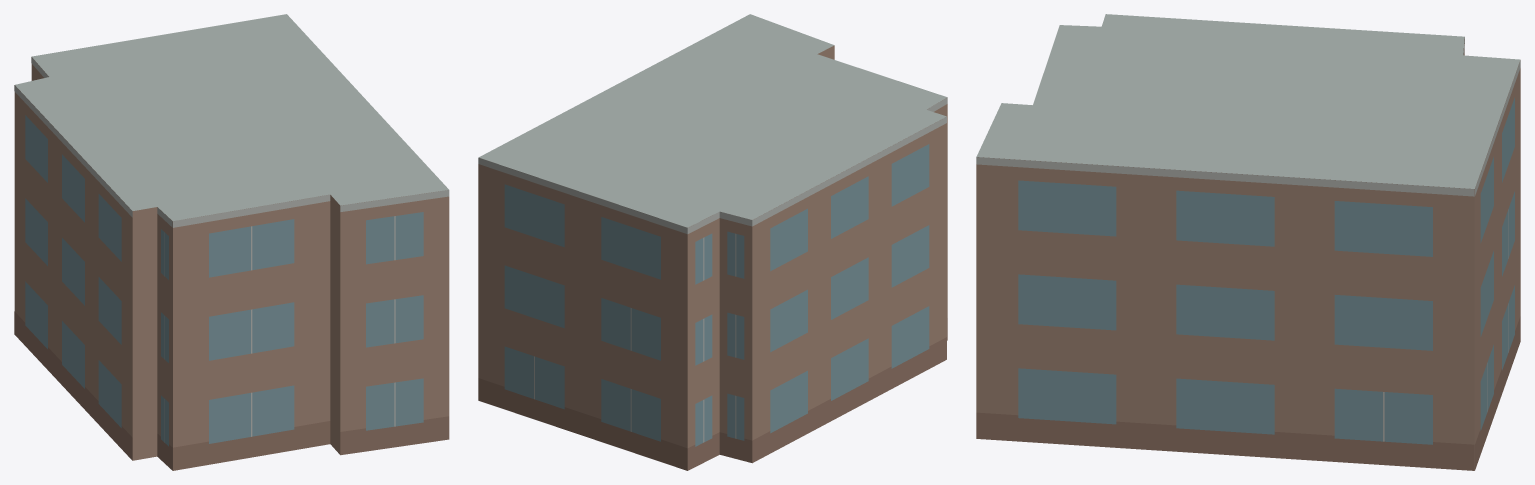
Rendered from survey-upis-32682922.glb.
The picture shows the model from 3 angles, left to right: view 1: azimuth 30°, elevation 25°; view 2: azimuth 150°, elevation 25°; view 3: azimuth 270°, elevation 25°; orthographic projection. The views are drawn at different scales.
Visible parts, largest first — view 1: survey-upis-32682922.tmp; view 2: survey-upis-32682922.tmp; view 3: survey-upis-32682922.tmp.
Boxes of the visible parts, x1,y1,x2,y2 form: survey-upis-32682922.tmp: [14, 14, 449, 470]; survey-upis-32682922.tmp: [478, 14, 947, 470]; survey-upis-32682922.tmp: [976, 14, 1520, 470].
Bounding box in the file's own units: 12.2 × 9.15 × 16.02.
